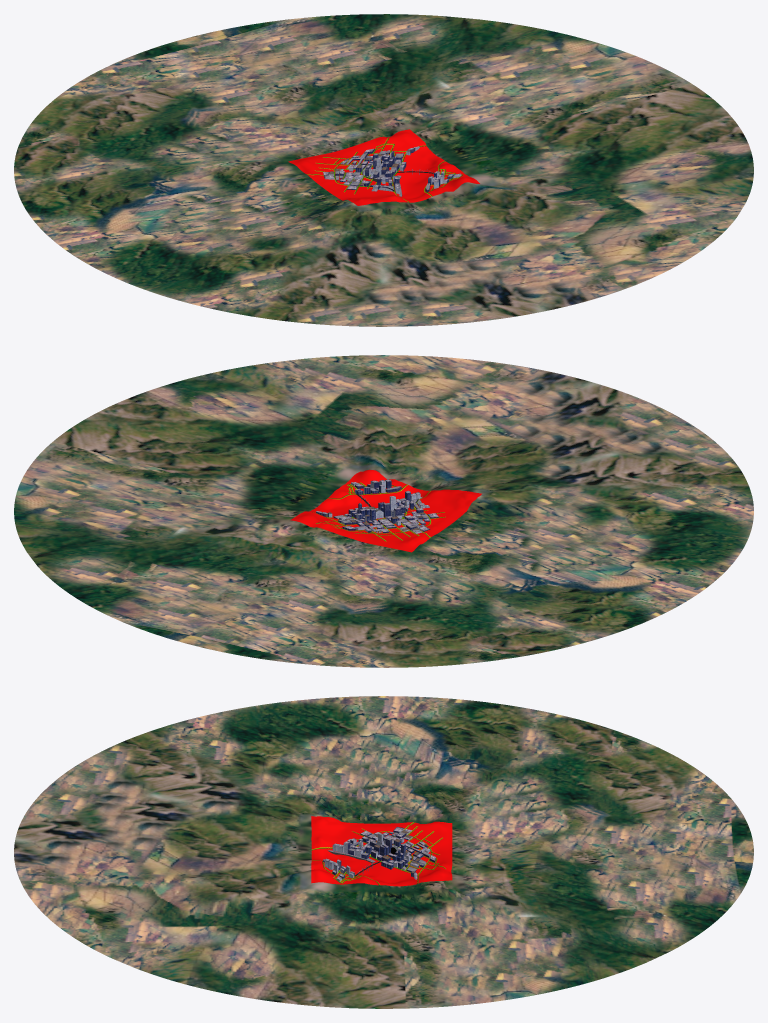
The model's file is land.dae.
3 views of the same model, one above another, from view 1: azimuth 30°, elevation 25°; view 2: azimuth 150°, elevation 25°; view 3: azimuth 270°, elevation 25° (orthographic).
Visible parts, largest first — view 1: A-ground, B-buildings; view 2: A-ground, B-buildings; view 3: A-ground, B-buildings.
Part boxes in pixels (bbox=[...]): A-ground: bbox=[14, 14, 753, 326]; B-buildings: bbox=[323, 146, 461, 194]; A-ground: bbox=[14, 355, 753, 667]; B-buildings: bbox=[316, 479, 438, 533]; A-ground: bbox=[14, 696, 753, 1008]; B-buildings: bbox=[323, 827, 435, 881].
Size of the model in its own units: 24.17 by 24.17 by 0.8379.
